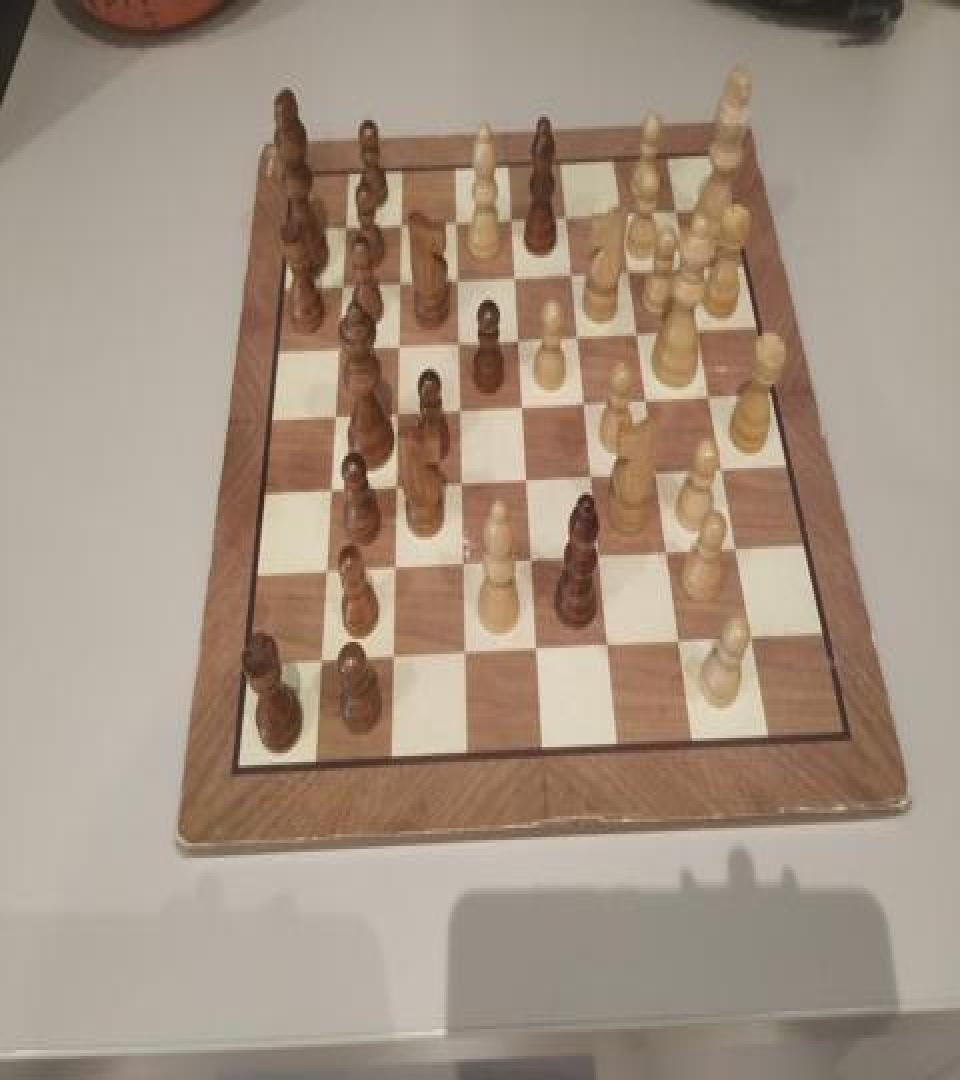xcorner: (514, 466, 534, 497), (384, 397, 404, 428), (698, 382, 718, 413), (307, 648, 327, 678), (379, 645, 399, 675), (452, 640, 472, 670), (597, 633, 617, 663), (669, 630, 689, 660), (741, 626, 761, 656), (312, 558, 332, 588), (381, 555, 401, 585), (519, 548, 539, 578), (588, 543, 608, 573), (657, 540, 677, 570), (725, 537, 745, 567), (317, 476, 337, 506), (382, 472, 402, 502), (448, 470, 468, 500), (580, 462, 600, 492), (645, 459, 665, 489), (711, 456, 731, 486), (321, 402, 341, 432), (447, 394, 467, 424), (510, 392, 530, 422), (572, 388, 592, 418), (635, 386, 655, 416), (325, 333, 345, 363), (385, 330, 405, 360), (445, 327, 465, 357), (506, 324, 526, 354), (566, 321, 586, 351), (626, 318, 646, 348), (686, 315, 706, 345), (329, 270, 349, 300), (386, 267, 406, 297), (444, 264, 464, 294), (502, 261, 522, 291), (560, 258, 580, 288), (617, 255, 637, 285), (675, 252, 695, 282), (332, 213, 352, 243), (388, 210, 408, 240), (443, 207, 463, 237), (498, 204, 518, 234), (554, 201, 574, 231), (609, 198, 629, 228), (665, 195, 685, 225), (524, 638, 544, 667), (450, 551, 470, 580)
